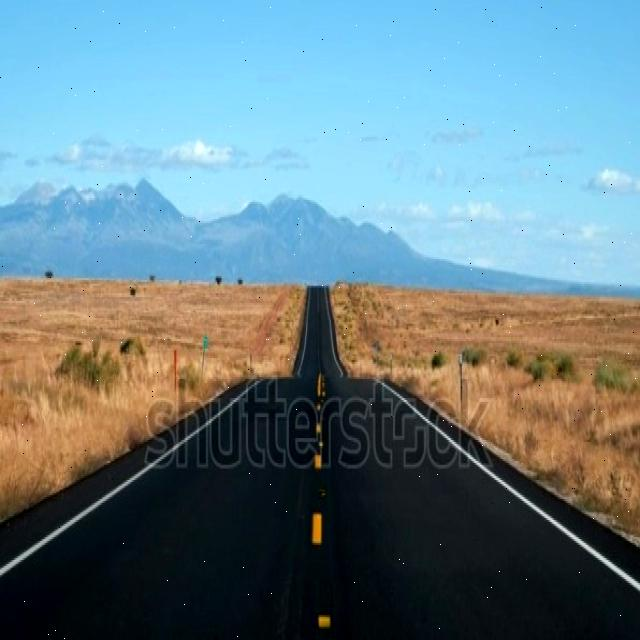lane: (310, 371, 332, 634), (311, 512, 321, 543), (317, 613, 331, 629), (317, 371, 324, 396), (314, 453, 321, 469)
road: (0, 286, 639, 636)
